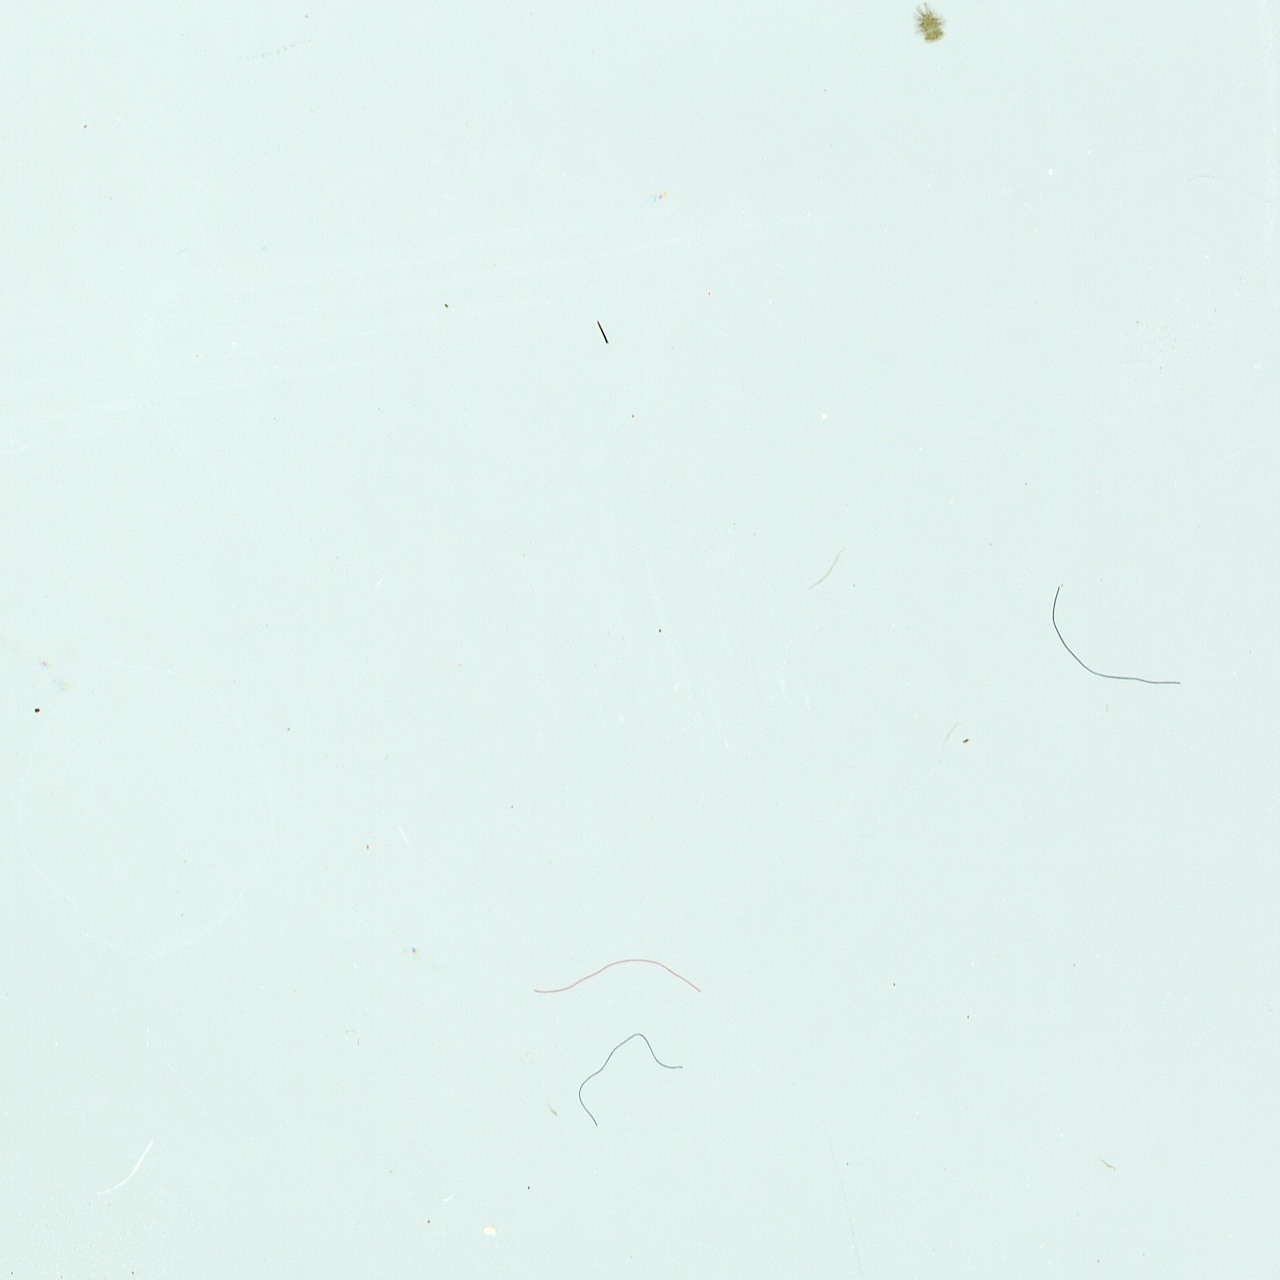arthropod: (902, 3, 954, 45)
